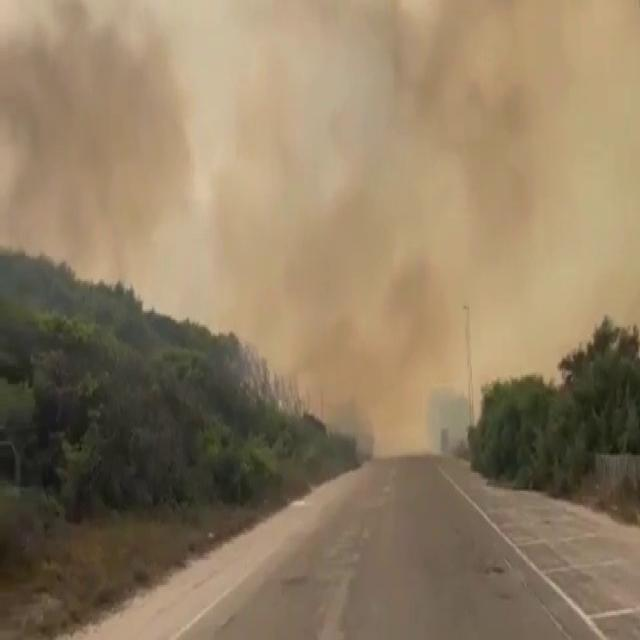Smoke: (232, 1, 626, 398), (0, 1, 183, 303)
